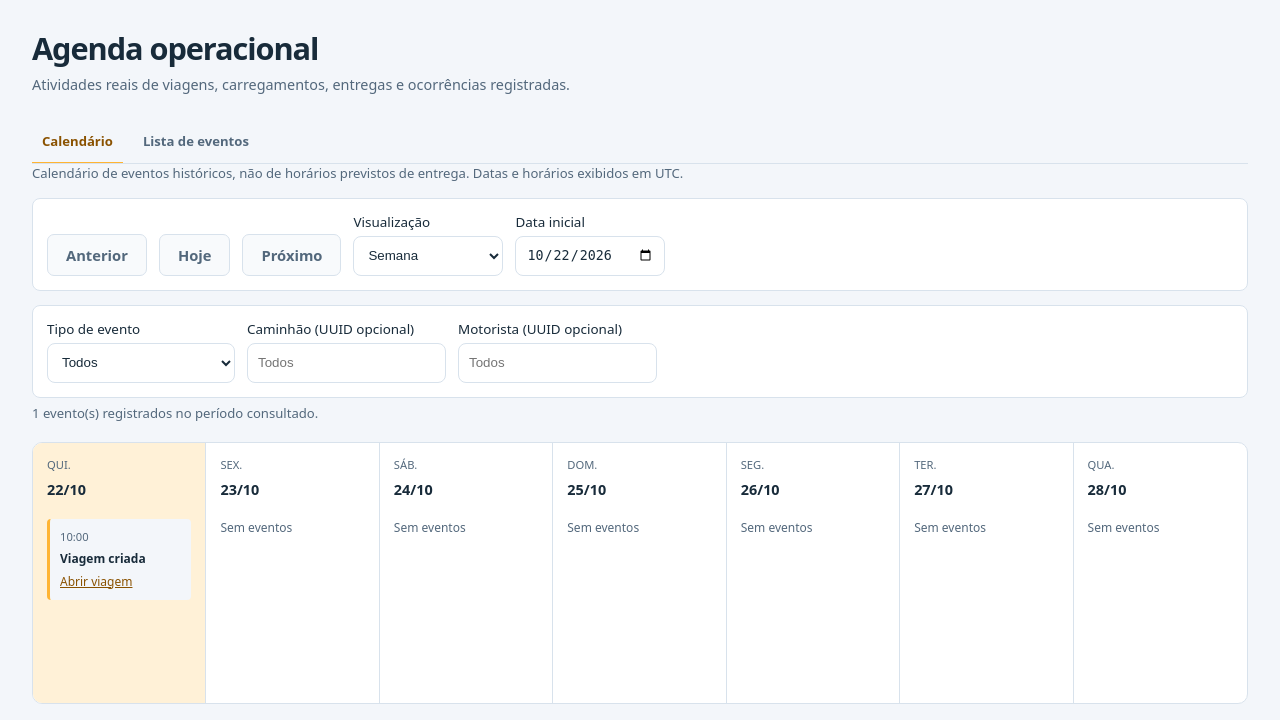
Test case: AgendaPage › alterna calendário e lista sem repetir a consulta nem criar eventos
The image size is (1280, 720).
Expected: the link "Abrir viagem" is shown, [60,573,132,590]
Step 1. Click the tab "Lista de eventos" → (196, 142), box [133,120,259,164]
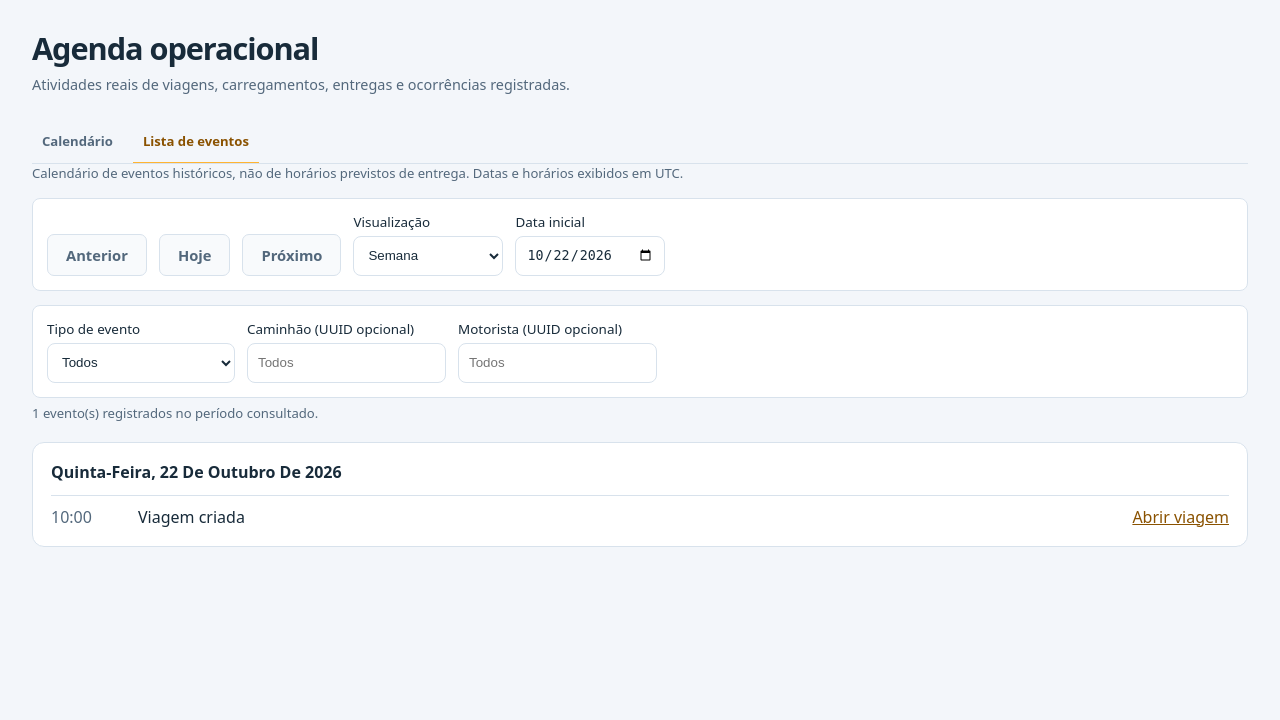
Expected: the text "Viagem criada" is shown, [138,506,245,528]
Step 2. Click the tab "Calendário" → (77, 142), box [32,120,123,164]
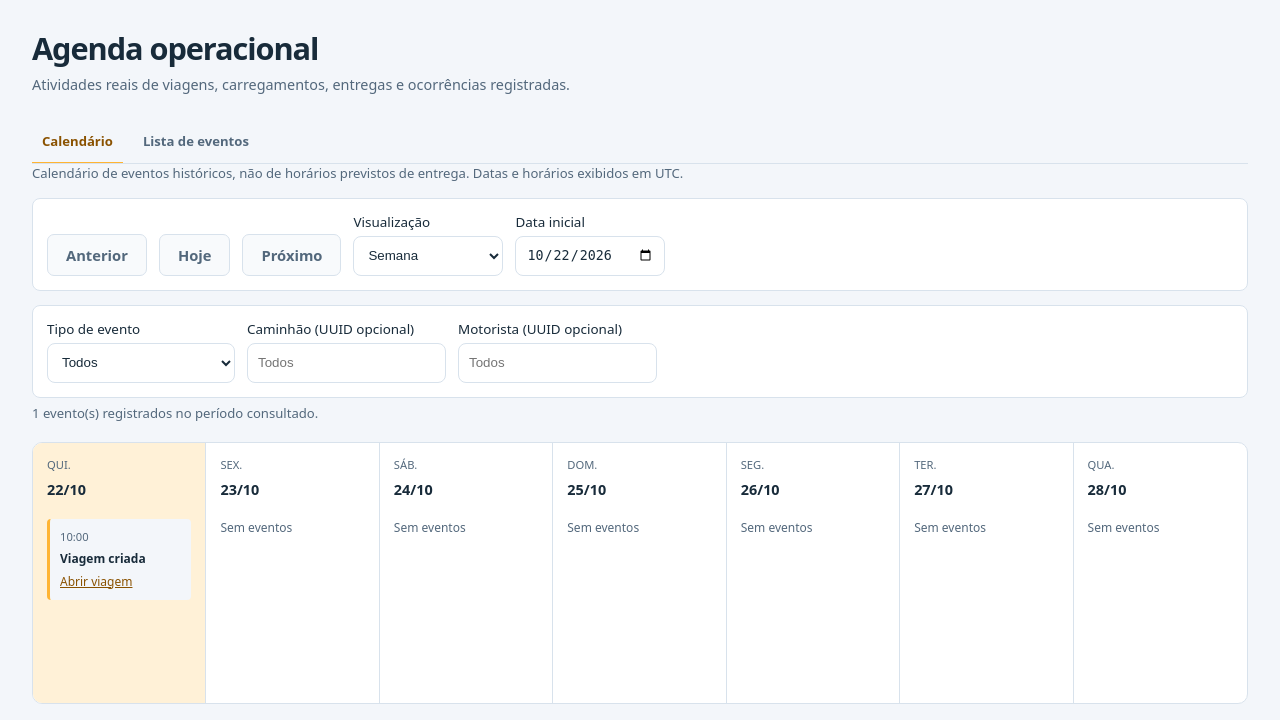
Result: the text "Sem eventos" is shown 6 times at [220,519,292,536]; [394,519,466,536]; [567,519,639,536]; [741,519,813,536]; [914,519,986,536]; [1088,519,1160,536]
